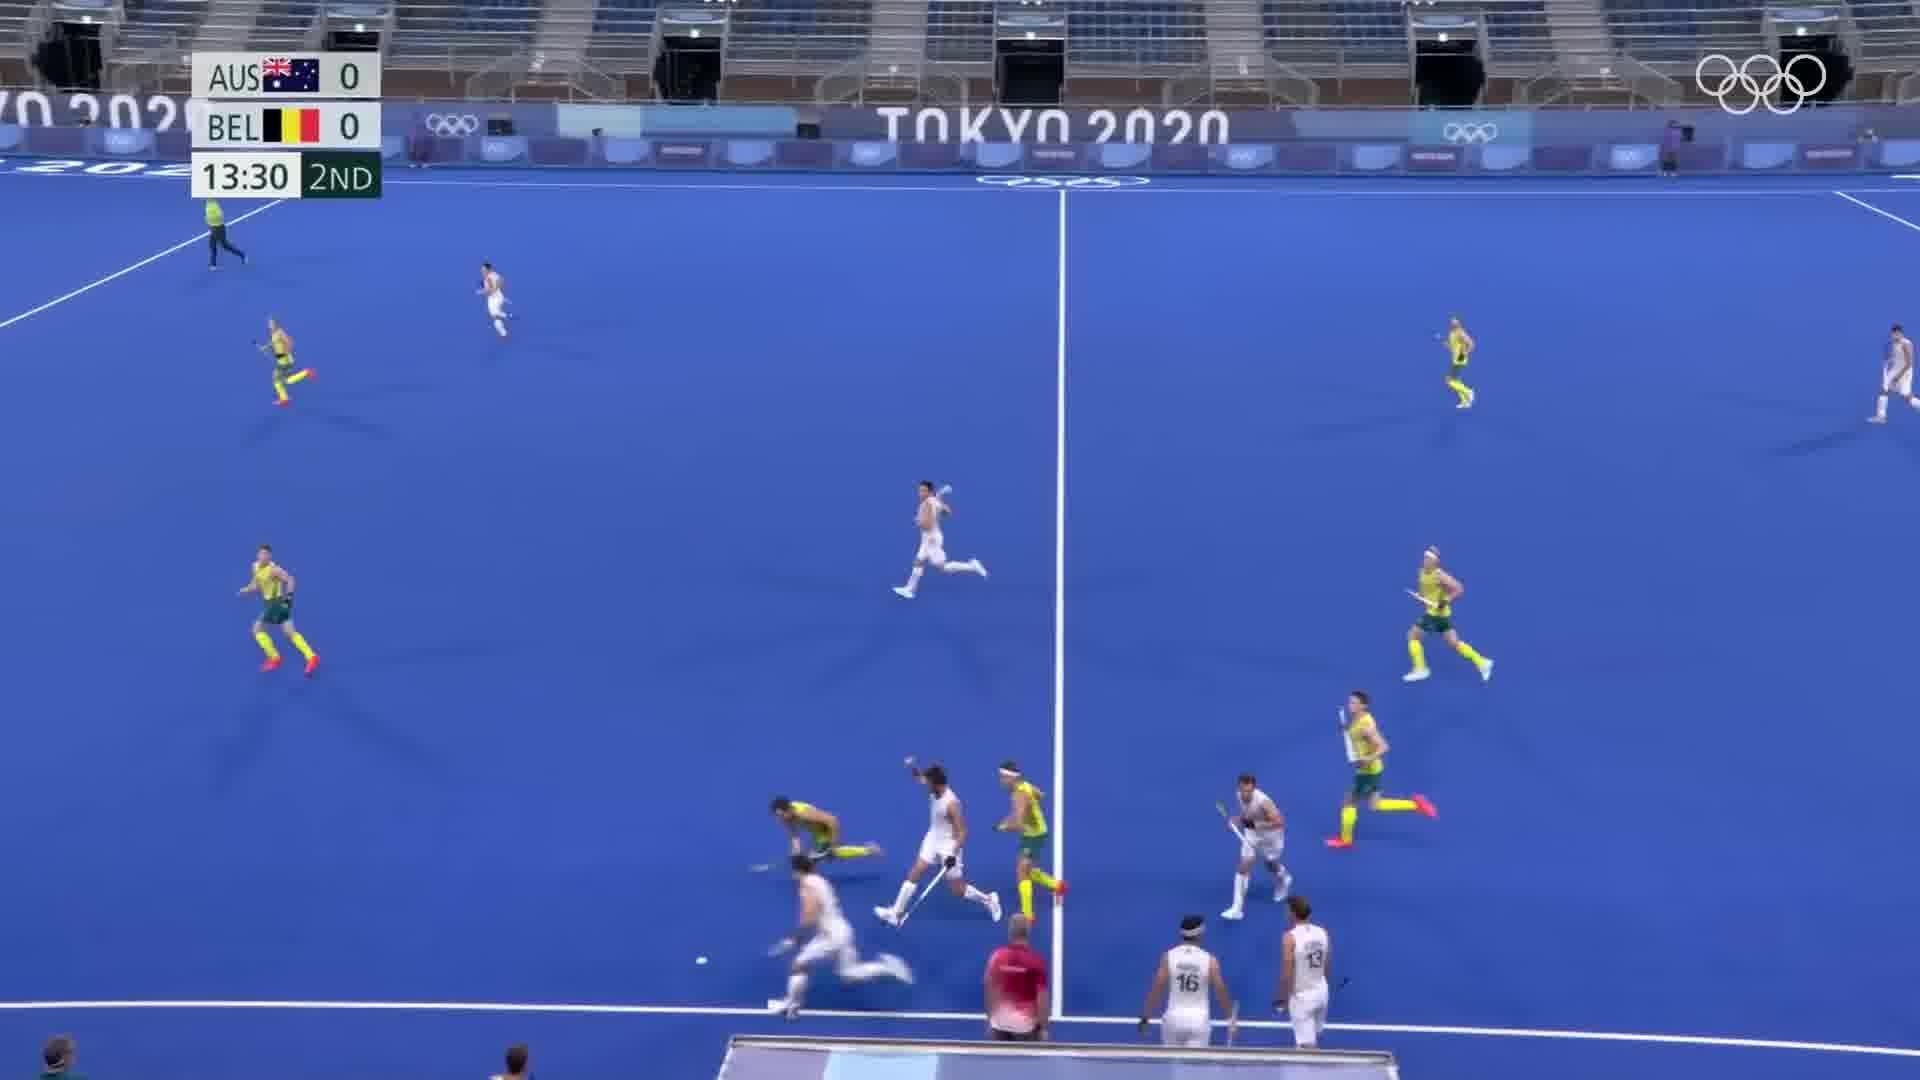ball: (688, 944, 721, 977)
